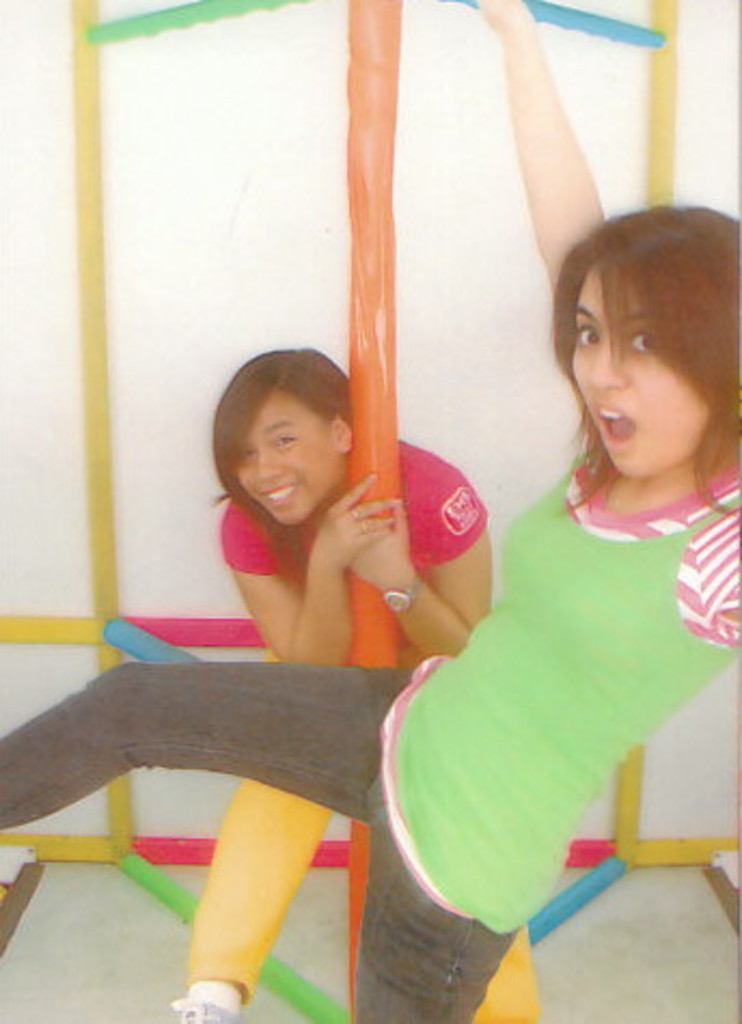Human_hand: (306, 477, 399, 571), (351, 511, 410, 587), (473, 0, 541, 42)
